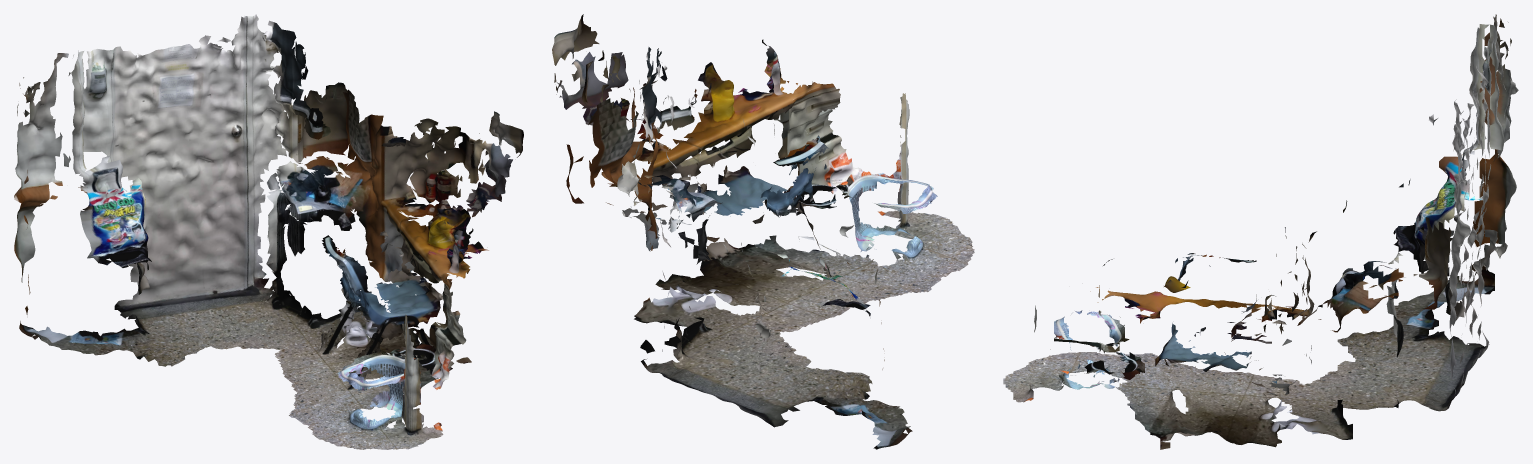
File: 124939-Door222-tex.glb
The picture shows the model from 3 angles, left to right: view 1: azimuth 30°, elevation 25°; view 2: azimuth 150°, elevation 25°; view 3: azimuth 270°, elevation 25°; orthographic projection. The views are drawn at different scales.
Visible parts, largest first — view 1: Node; view 2: Node; view 3: Node.
Part boxes in pixels (<box>): Node: <box>14,14,523,449</box>; Node: <box>552,14,974,449</box>; Node: <box>1003,14,1518,449</box>.
Bounding box in the file's own units: 2.52 × 1.73 × 2.58.
2 materials, 2 textured.
